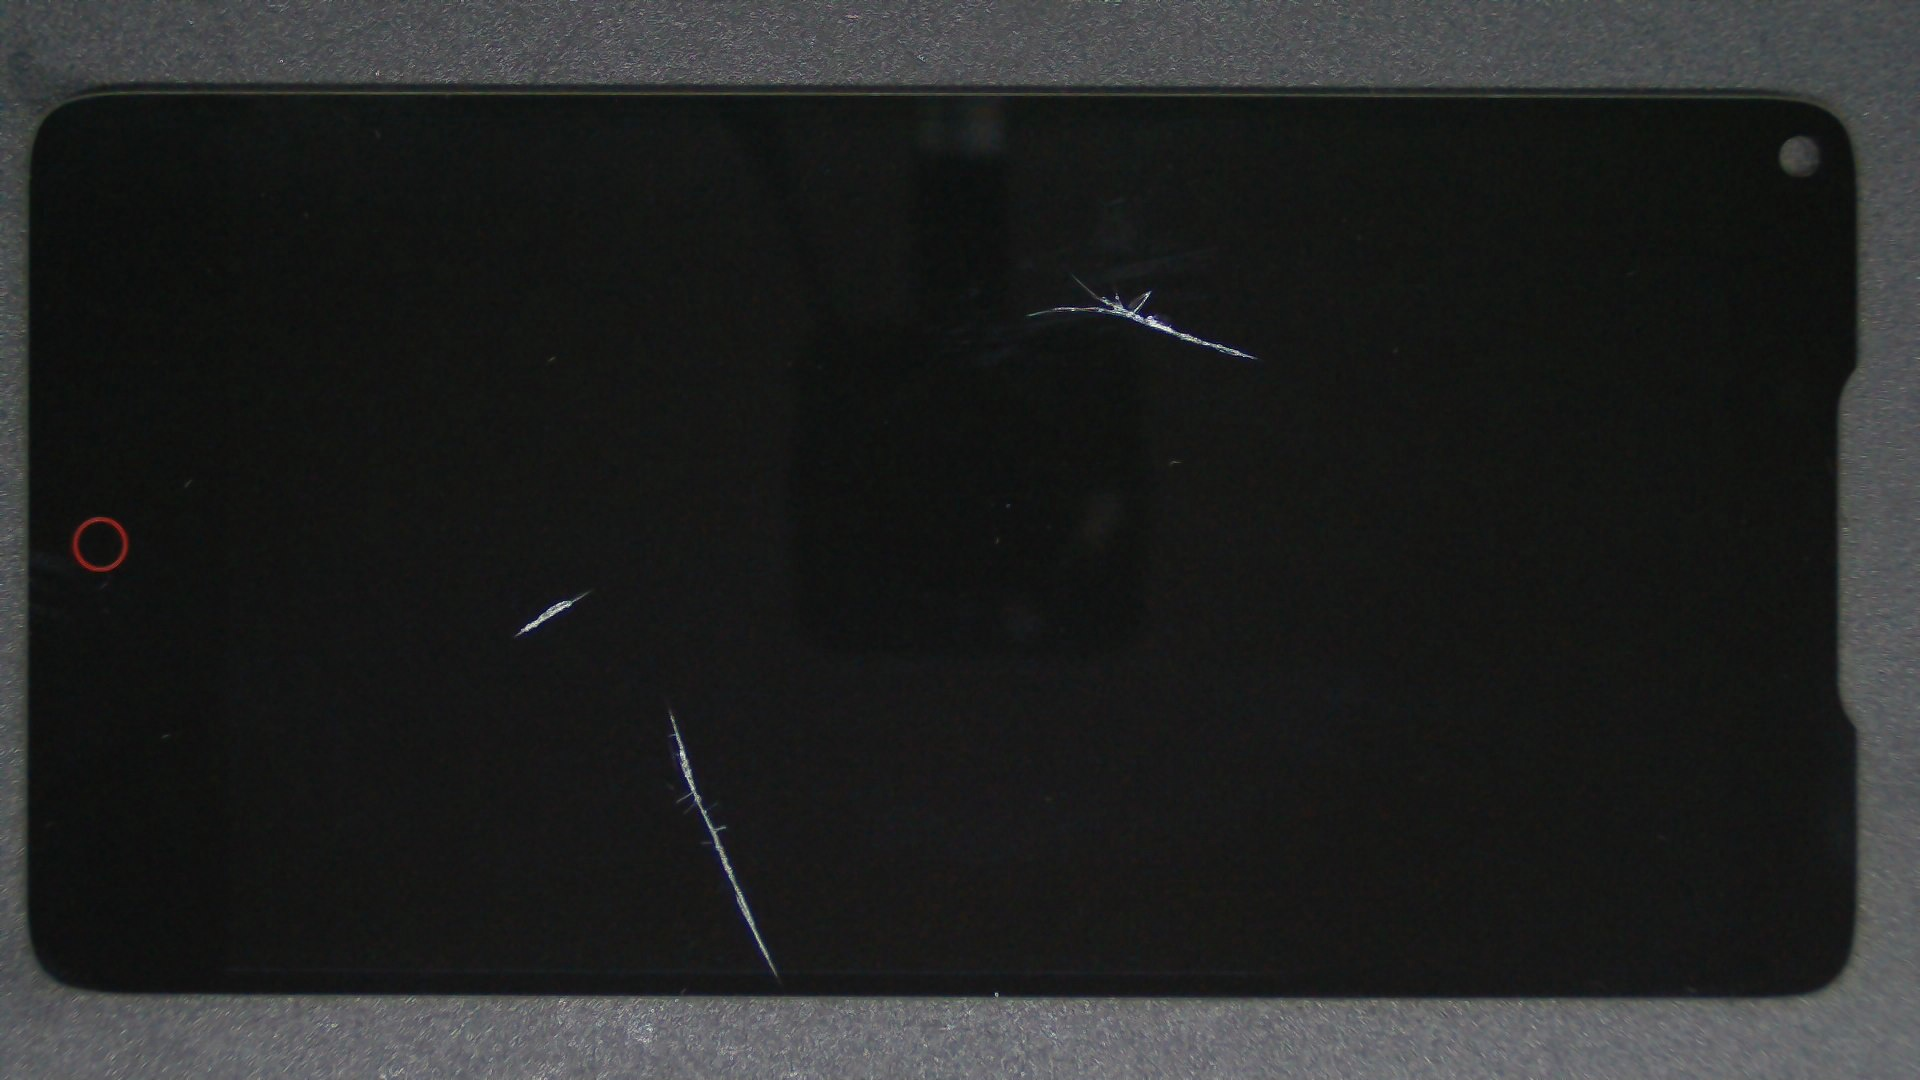oil: (335, 353, 1005, 1064), (295, 294, 884, 884), (537, 137, 1610, 415)
